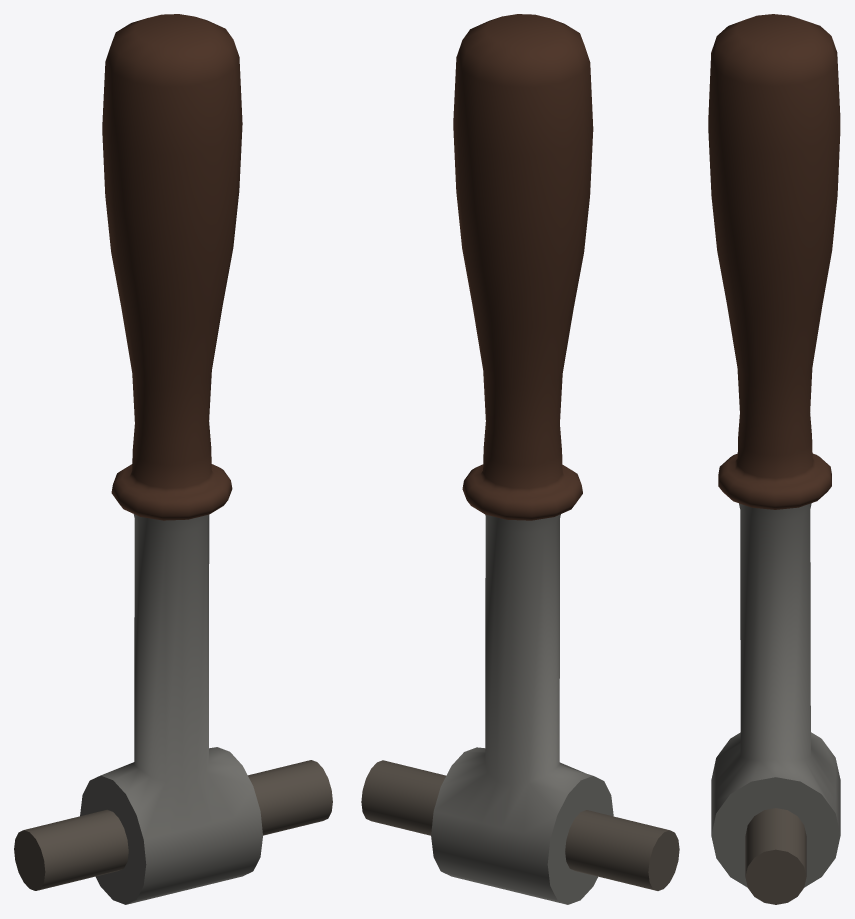
File: SM_Lever.fbx
3 renders of one model, left to right at view 1: azimuth 30°, elevation 25°; view 2: azimuth 150°, elevation 25°; view 3: azimuth 270°, elevation 25°, orthographic. The views are drawn at different scales.
Parts seen in each view (by area): view 1: SM_Lever; view 2: SM_Lever; view 3: SM_Lever.
Part boxes in pixels (x1=…): SM_Lever: x1=14, y1=14, x2=332, y2=904; SM_Lever: x1=361, y1=14, x2=679, y2=904; SM_Lever: x1=708, y1=14, x2=840, y2=904.
Bounding box in the file's own units: 0.1207 × 0.3436 × 0.0492.
